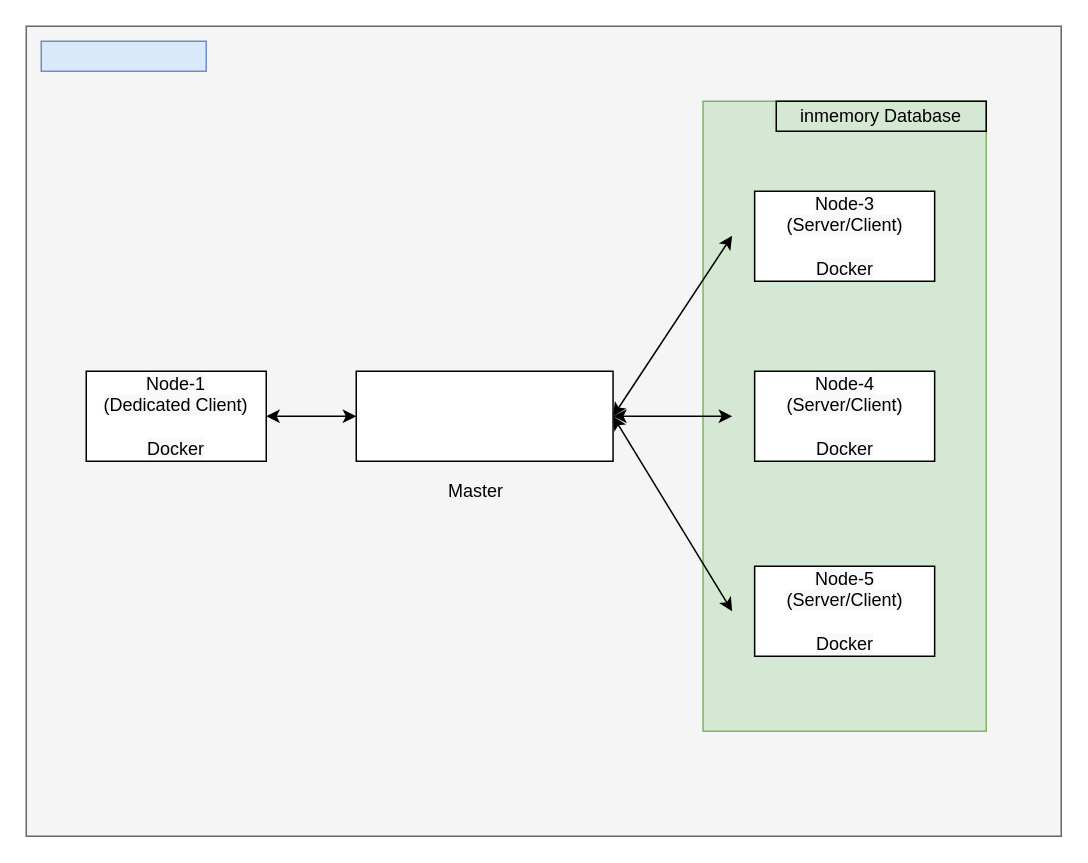
Image size: 1088x863. Some labels were removed from this diagram. The shapes that lost their labels are listed below. From the top down, each one's centre as x and y in pixels, then its label:
(123,55): LOCAL MACHINE
(484,415): Node-2: Controller Node (Server/Client) Docker
